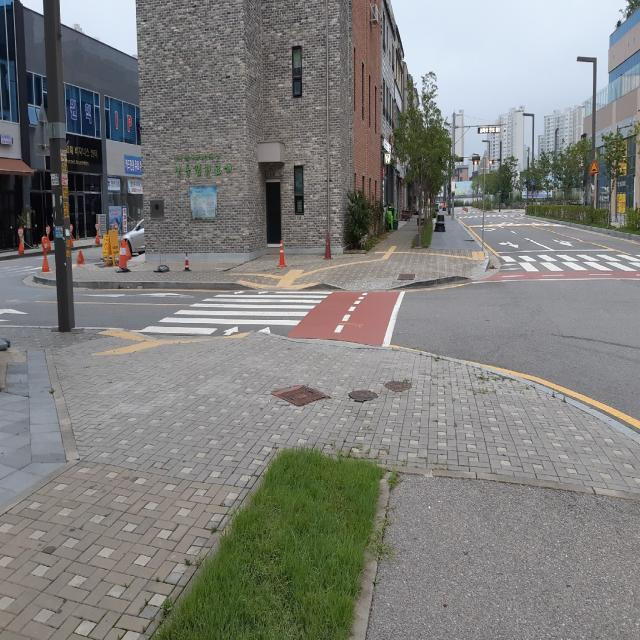횡단보도: (138, 289, 334, 337), (498, 253, 640, 278)
